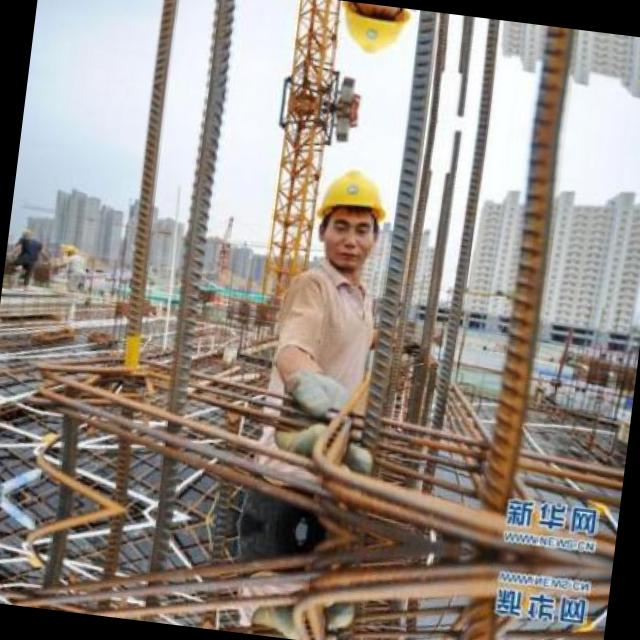helmet: (303, 150, 400, 280), (328, 0, 420, 74)
